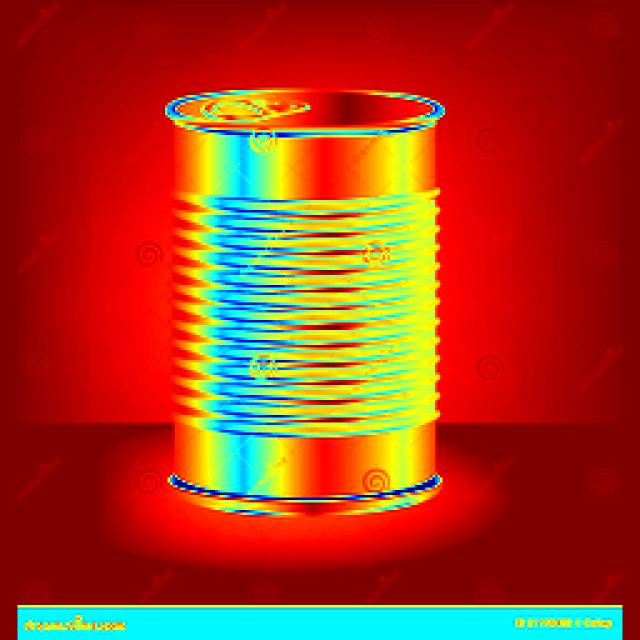Aluminium Food Cans: (146, 56, 465, 581)
